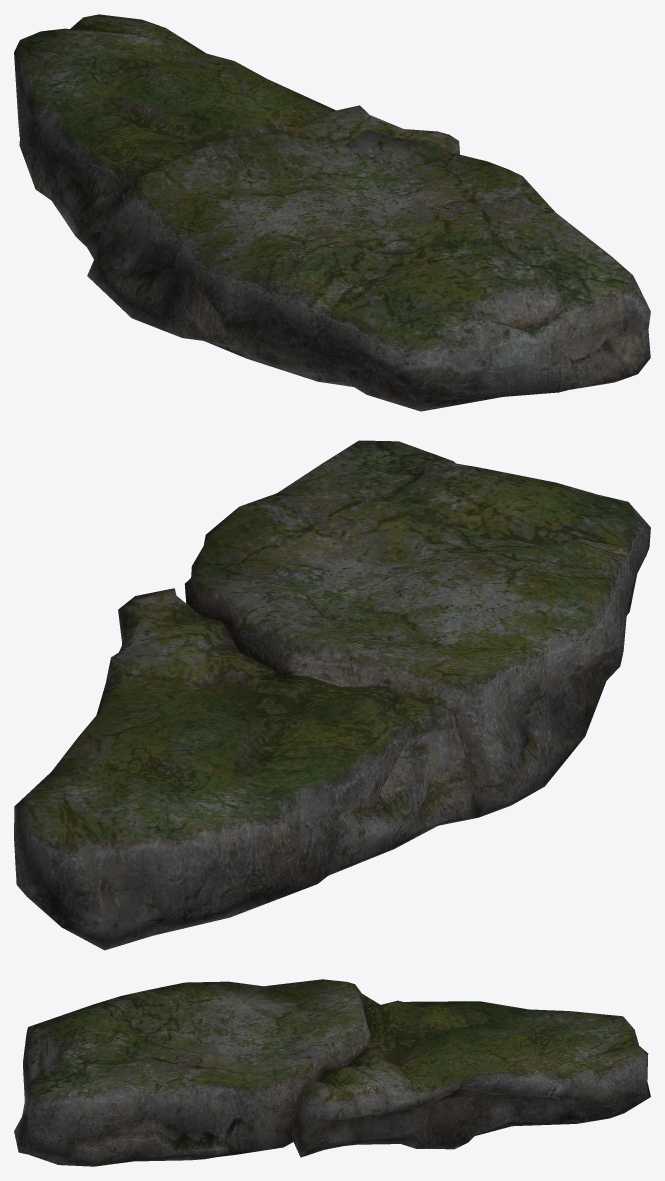
The model's file is mossy_flat_rock.glb.
The picture shows the model from 3 angles, top to bottom: view 1: azimuth 30°, elevation 25°; view 2: azimuth 150°, elevation 25°; view 3: azimuth 270°, elevation 25°; orthographic projection. The views are drawn at different scales.
Visible parts, largest first — view 1: Rock.002; view 2: Rock.002; view 3: Rock.002.
Boxes of the visible parts, left/top/right/bottom form: Rock.002: left=14, top=14, right=650, bottom=411; Rock.002: left=14, top=440, right=650, bottom=950; Rock.002: left=14, top=979, right=650, bottom=1166.
Size of the model in its own units: 2.42 by 0.8908 by 5.23.
Materials: 1 (1 with a texture image).
